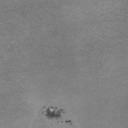iron sheet ash: (44, 106, 66, 118)
